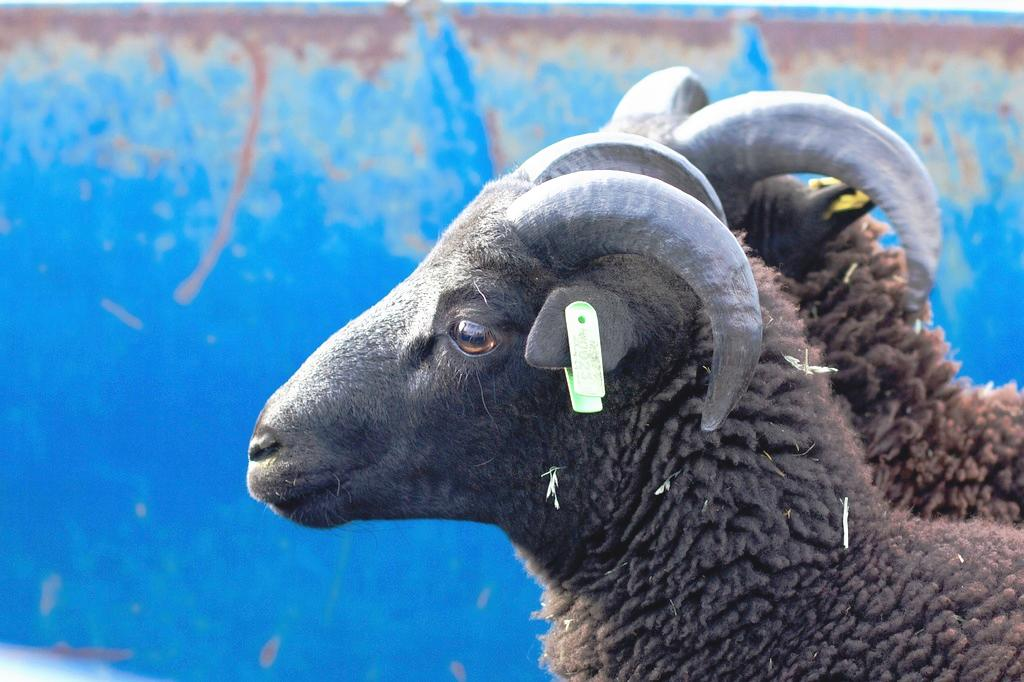Sheep: (217, 68, 991, 676)
